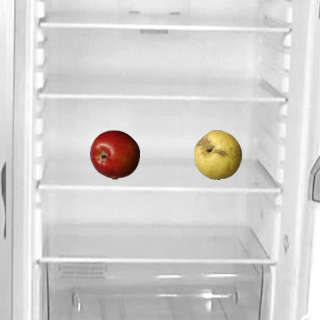Apple Braeburn: (89, 129, 139, 179)
Apple Golden 1: (192, 129, 242, 179)
